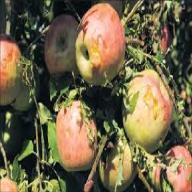apple: (75, 2, 127, 80), (122, 68, 170, 147), (51, 104, 100, 166), (98, 132, 138, 186), (44, 15, 79, 75), (154, 140, 191, 189), (1, 36, 26, 106)
